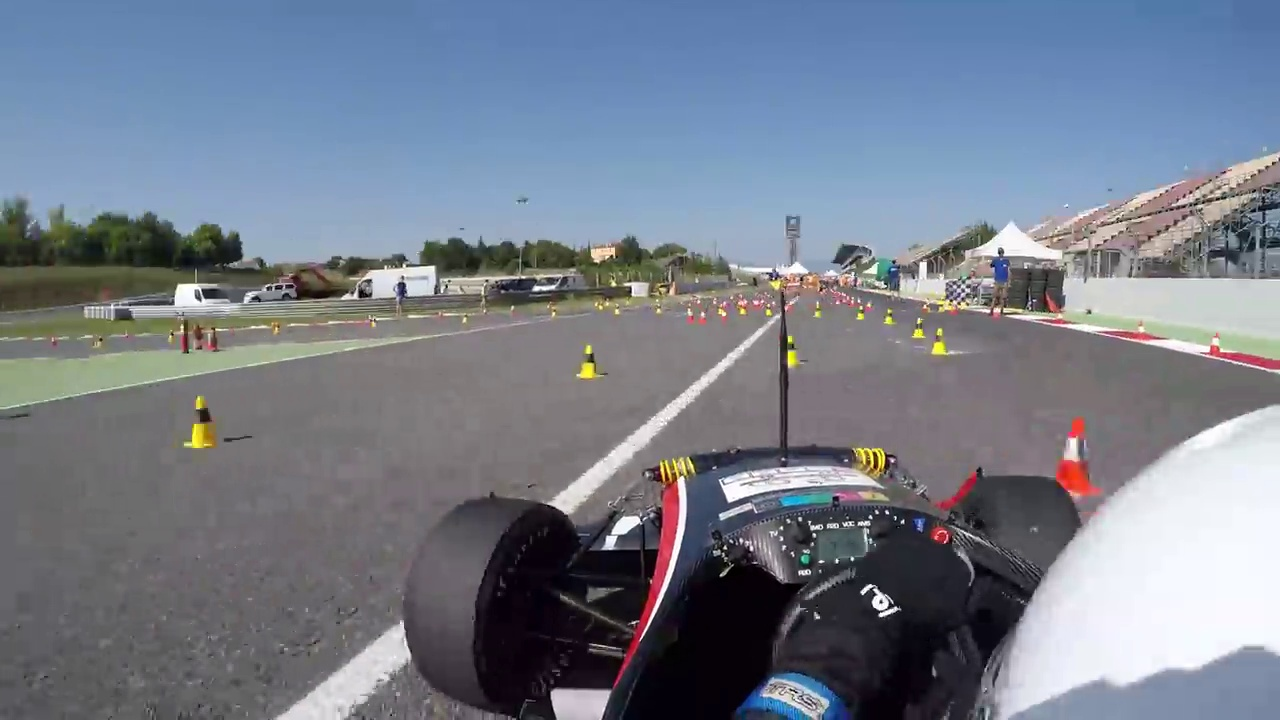Cone: (1054, 414, 1099, 491), (185, 391, 223, 450), (579, 344, 606, 380), (927, 323, 953, 359)
